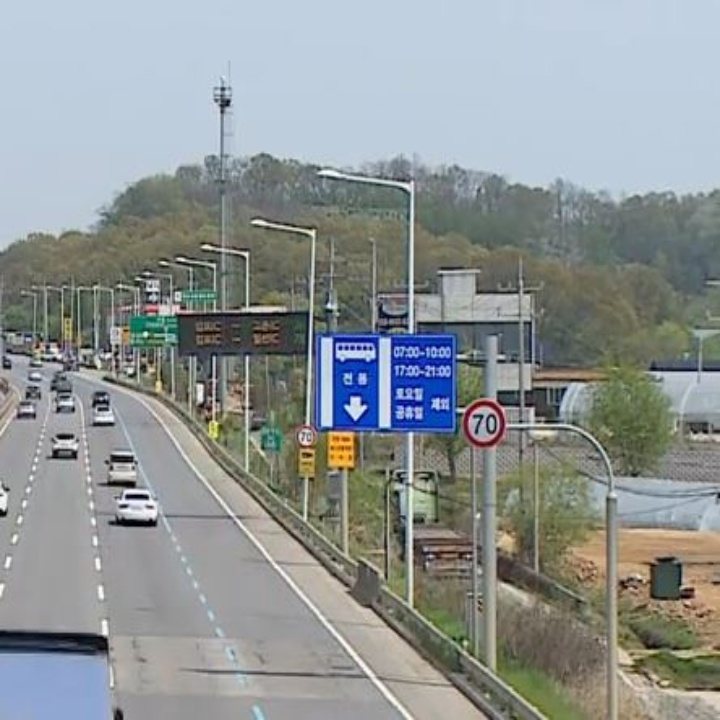bus: (332, 335, 378, 367)
